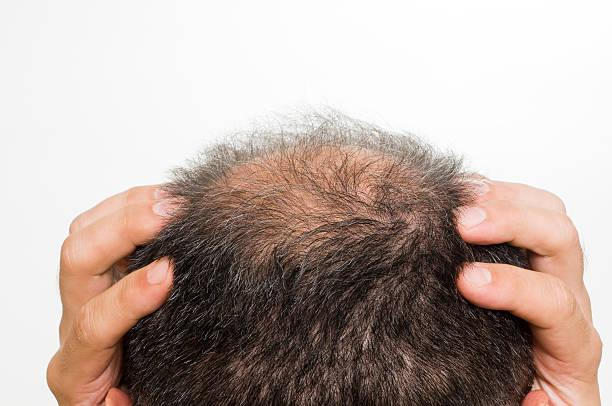low hair density: (220, 157, 410, 219)
